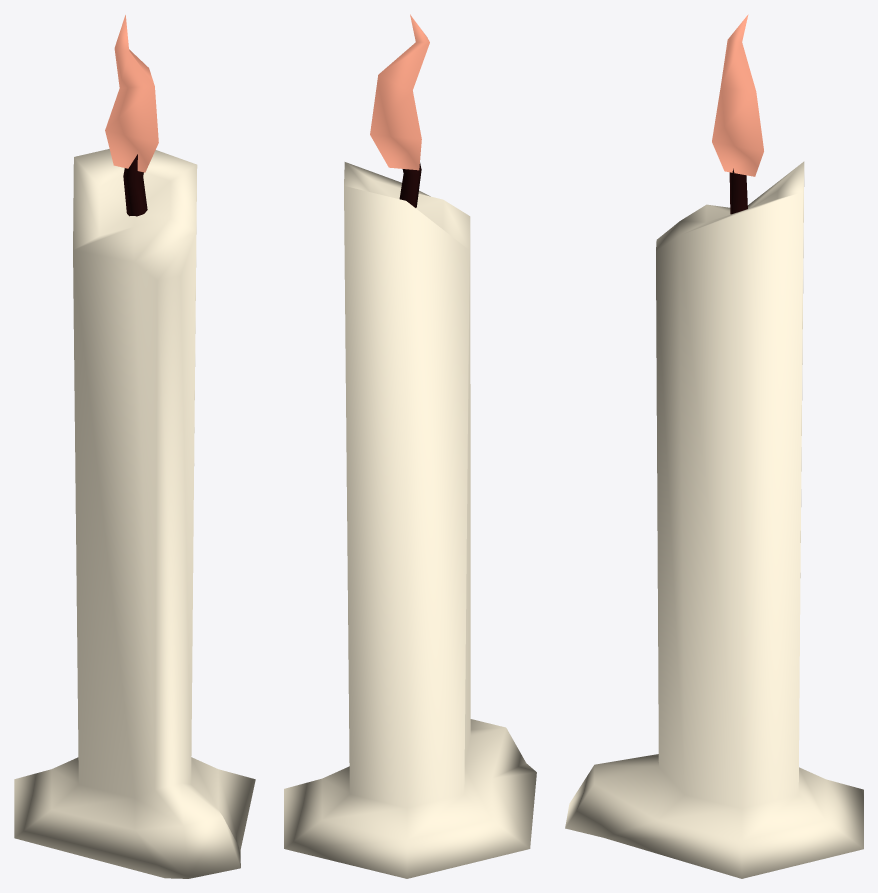
File: HWN20_Candle_13.glb
3 views of the same model, side by side, from view 1: azimuth 30°, elevation 25°; view 2: azimuth 150°, elevation 25°; view 3: azimuth 270°, elevation 25° (orthographic).
Parts seen in each view (by area): view 1: HWN20_Candle_13; view 2: HWN20_Candle_13; view 3: HWN20_Candle_13.
Boxes of the visible parts, bbox=[...] form: HWN20_Candle_13: bbox=[14, 15, 255, 878]; HWN20_Candle_13: bbox=[284, 14, 536, 878]; HWN20_Candle_13: bbox=[565, 14, 863, 878].
Size of what is drawn, in the model's own units: 0.1351 by 0.4242 by 0.1432.
Materials: 2 (2 with a texture image).
